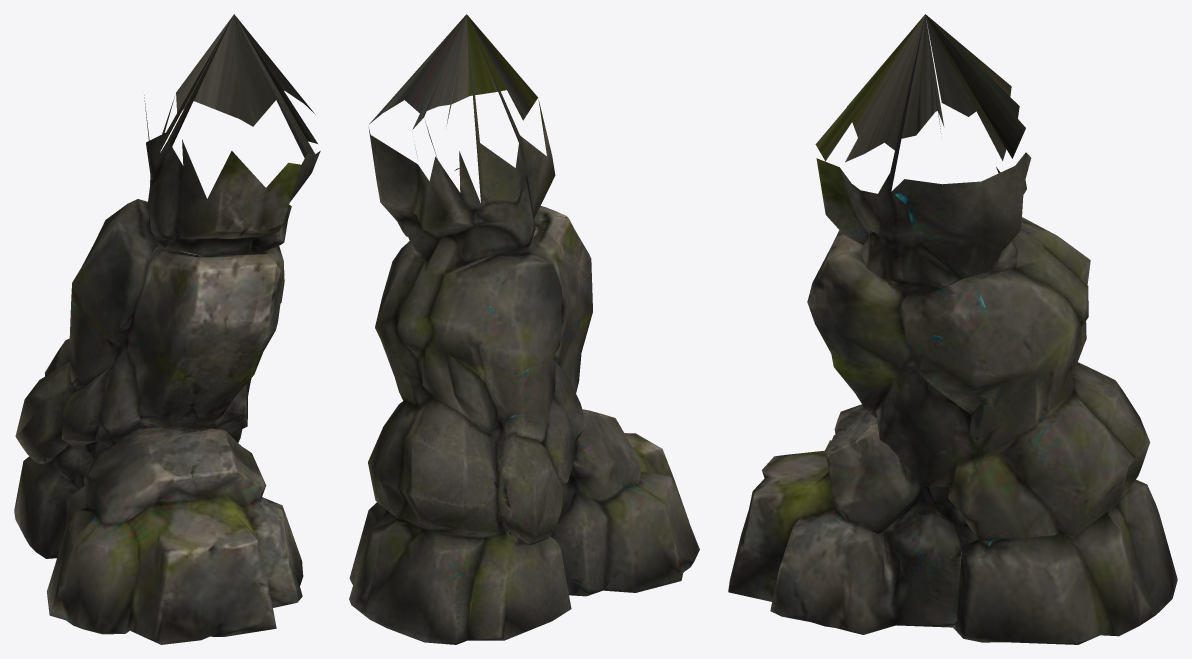
The model's file is warden_leg_negx.glb.
3 views of the same model, side by side, from view 1: azimuth 30°, elevation 25°; view 2: azimuth 150°, elevation 25°; view 3: azimuth 270°, elevation 25° (orthographic). The views are drawn at different scales.
Size of the model in its own units: 4.89 by 9.04 by 6.09.
1 material, 1 textured.
